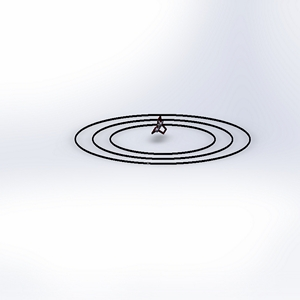circle: (65, 110, 254, 173)
submarine: (143, 115, 173, 138)
